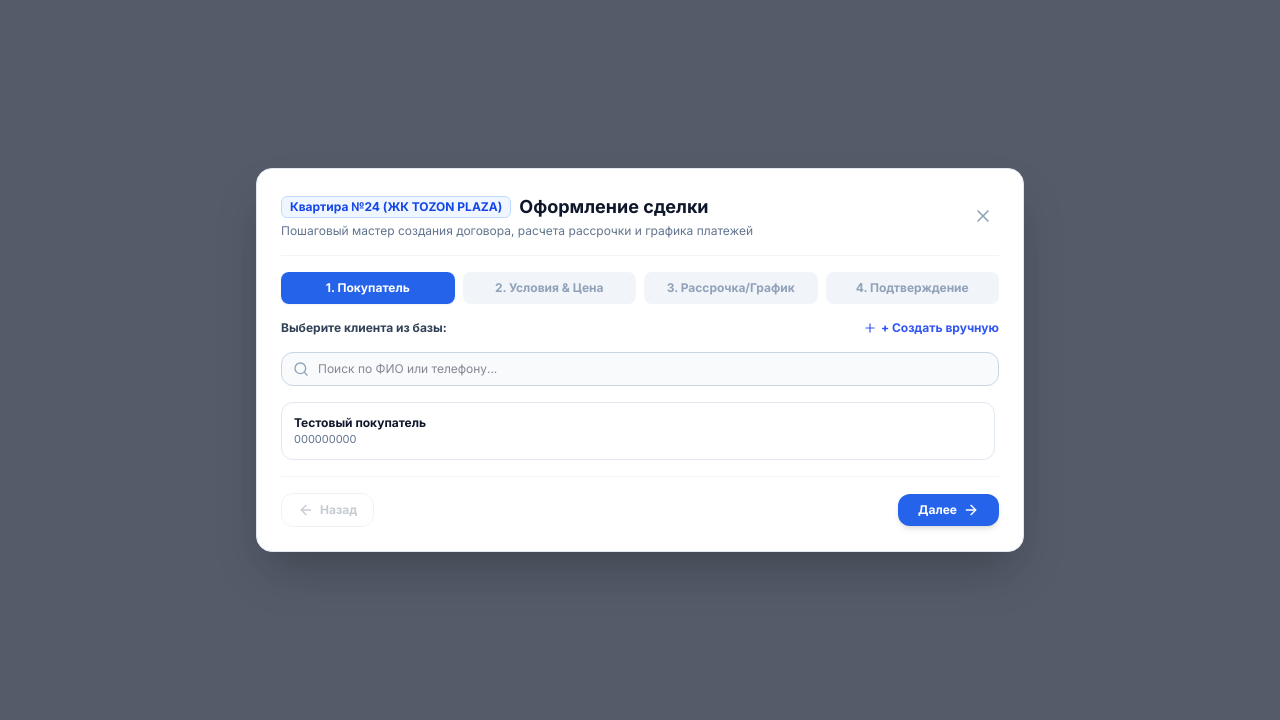
Test case: initial buyer receipt cash desk › blocks receipt when desks are empty
Click the text "Тестовый покупатель" at point(360, 423), box x1=294 y1=415 x2=426 y2=431
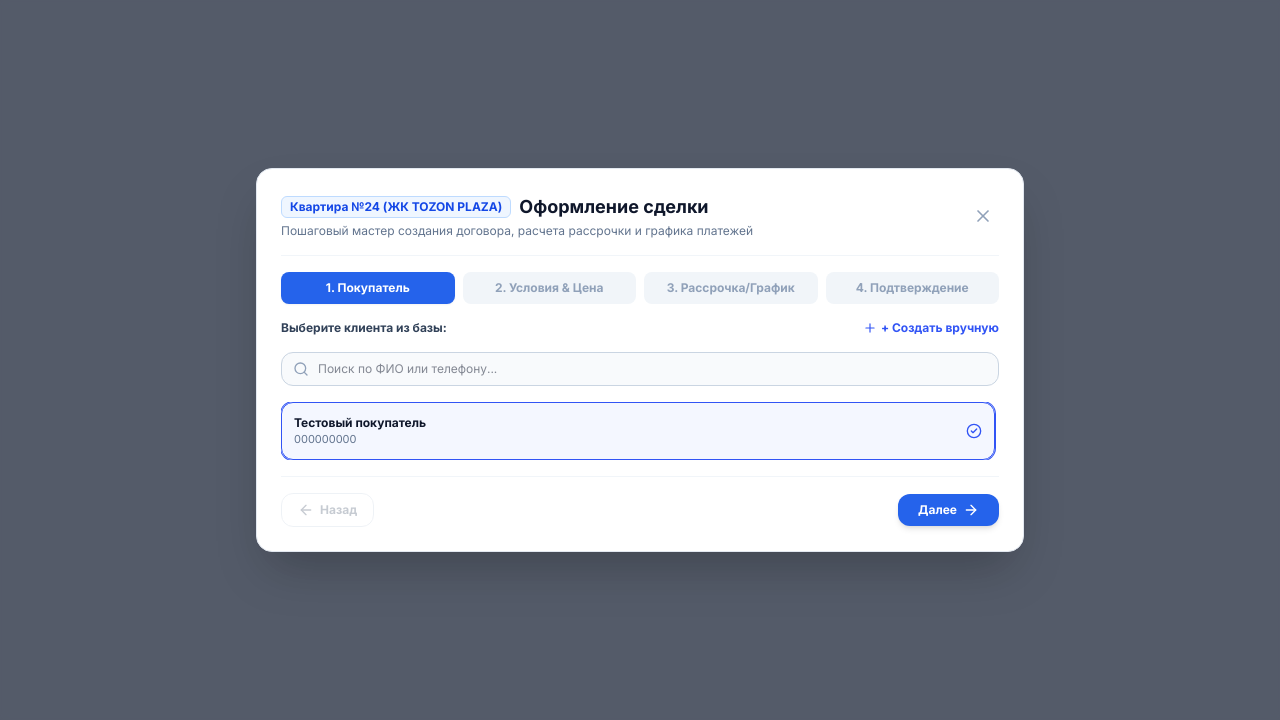
Click the button "Далее" at point(949, 510), box x1=898 y1=494 x2=999 y2=526
(page scrolled)
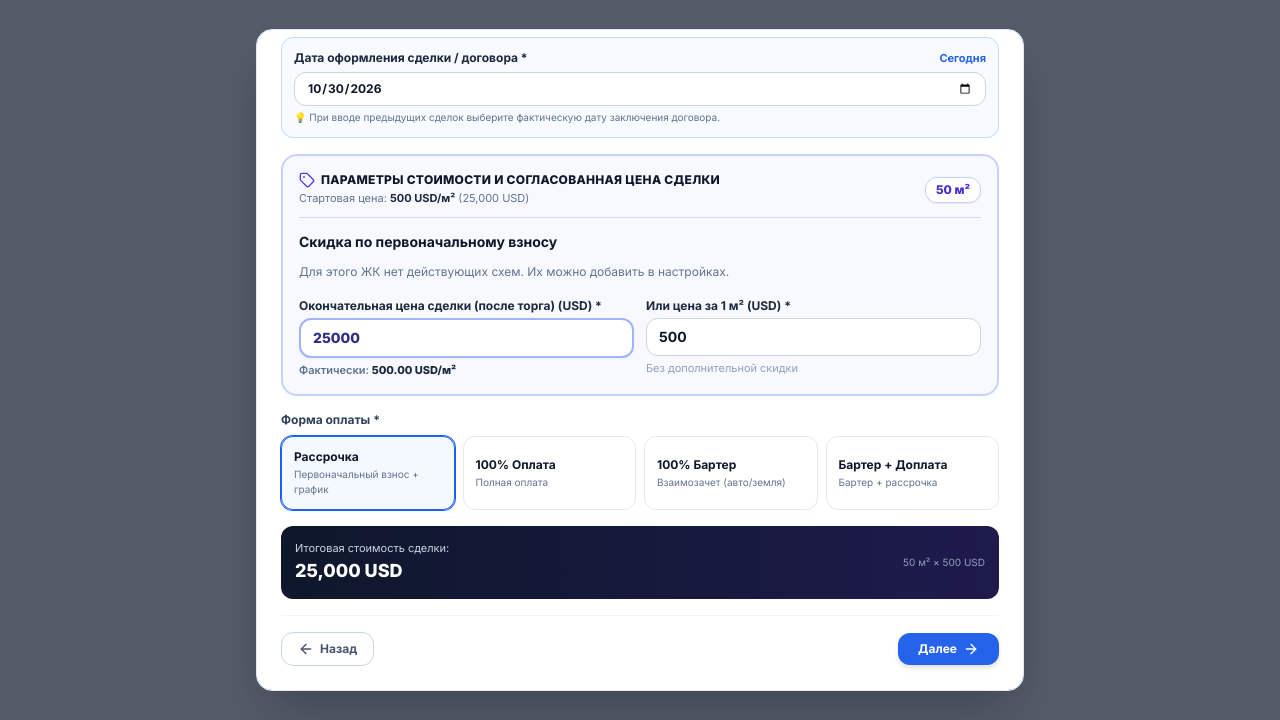
Click the button "Далее" at point(949, 649), box x1=898 y1=633 x2=999 y2=665
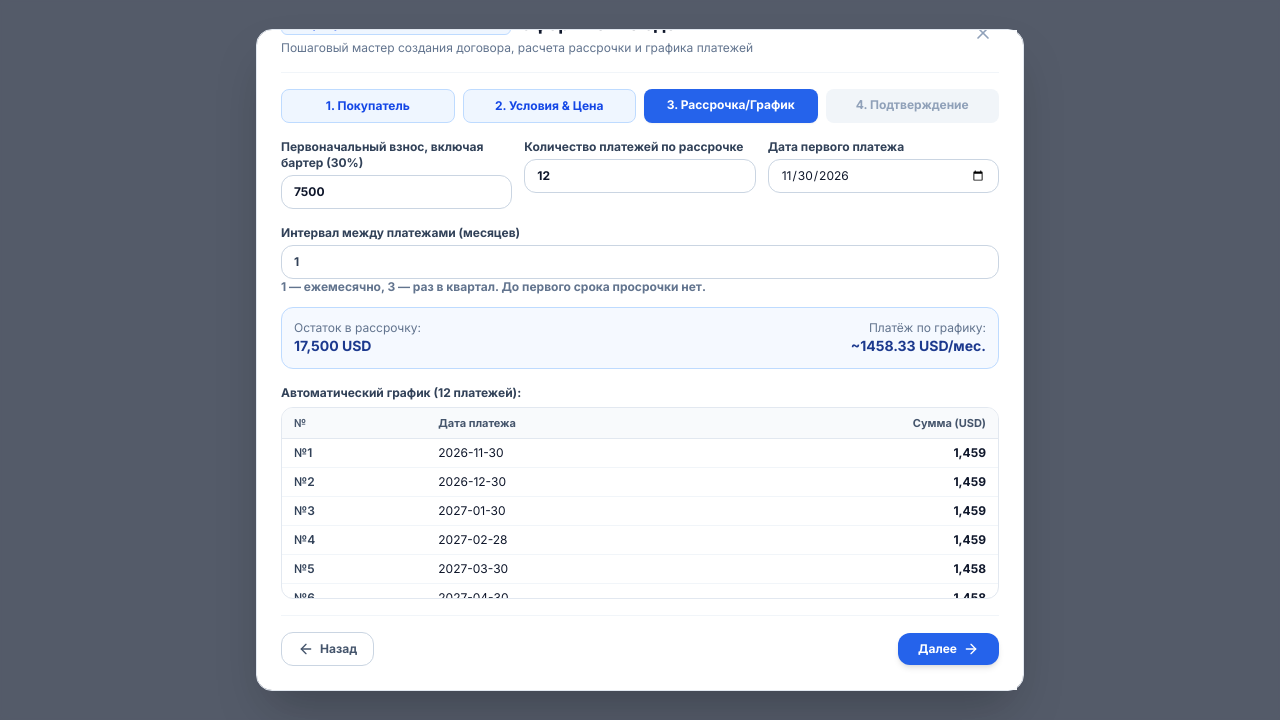
Click the button "Далее" at point(949, 649), box x1=898 y1=633 x2=999 y2=665
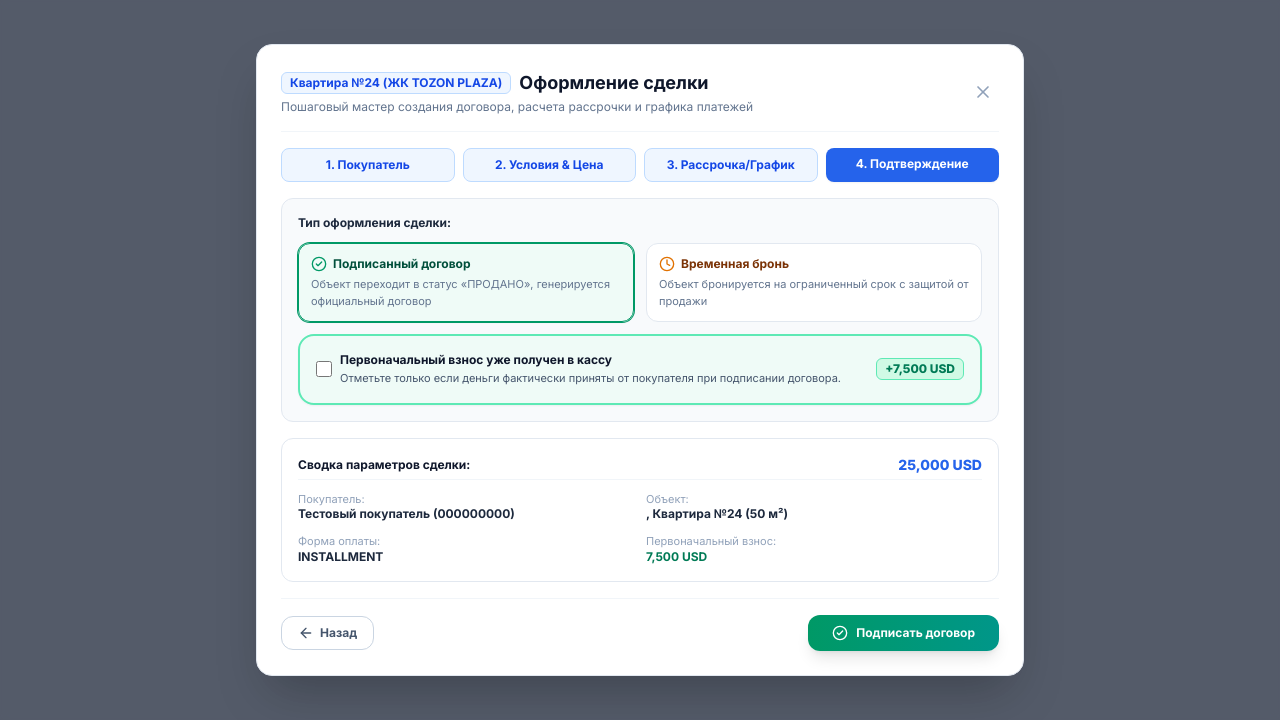
Click the checkbox labelled "Первоначальный взнос уже получен в кассу" at point(324, 369), box x1=316 y1=361 x2=332 y2=377
(page scrolled)
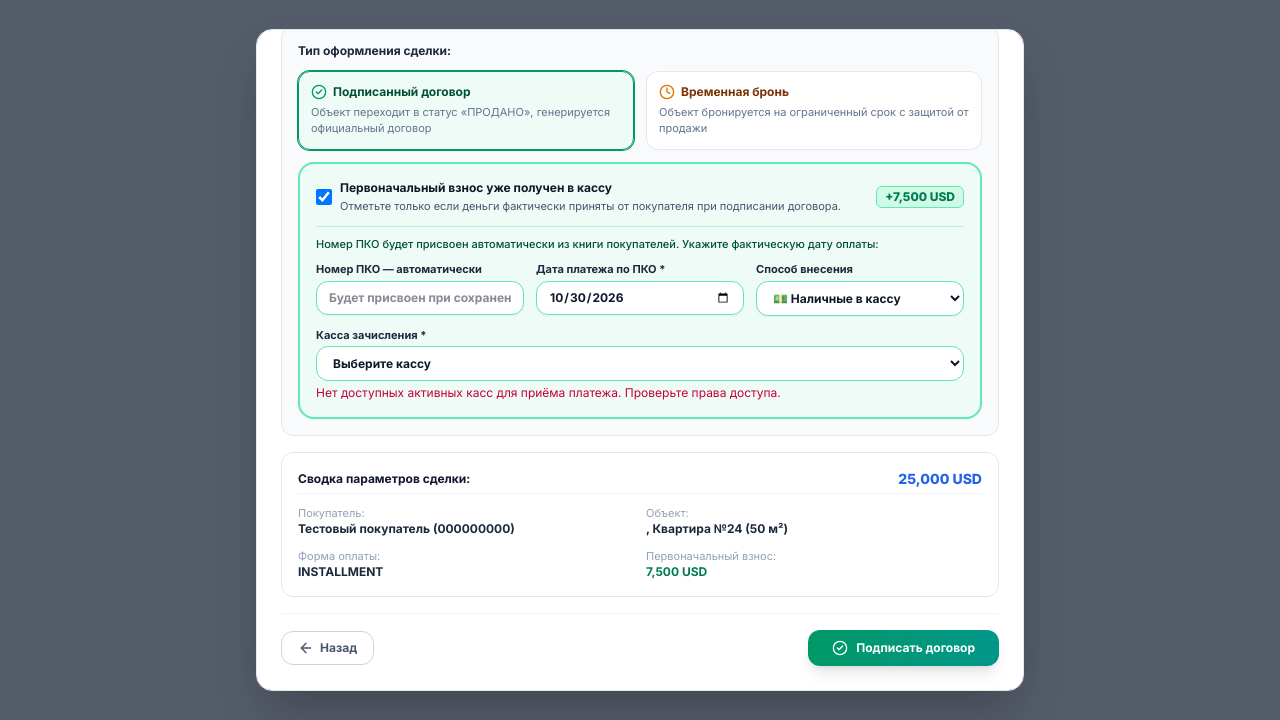
Check: the text "Нет доступных активных касс для приёма платежа. Проверьте права доступа." is shown, box x1=316 y1=385 x2=781 y2=400
Click the button "Подписать договор" at point(904, 648), box x1=808 y1=630 x2=999 y2=666
(page scrolled)
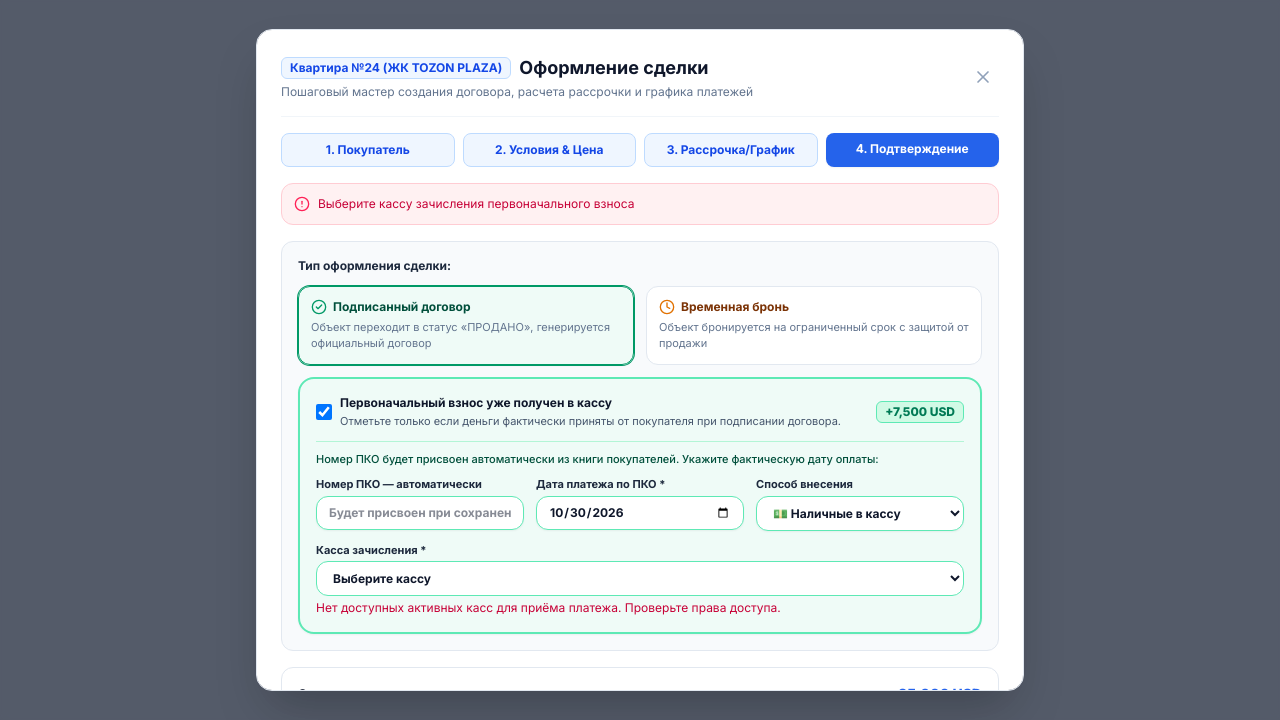
Check: the text "Выберите кассу зачисления первоначального взноса" is shown, box x1=318 y1=196 x2=634 y2=212
